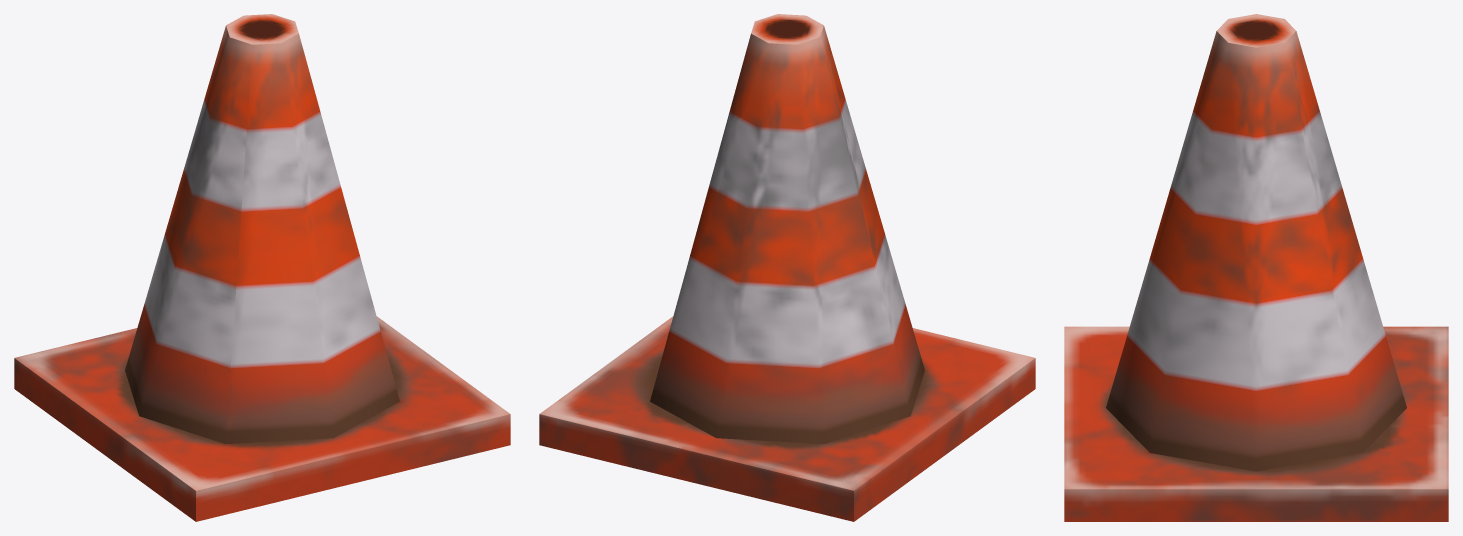
File: trafficCone01.fbx
The picture shows the model from 3 angles, left to right: view 1: azimuth 30°, elevation 25°; view 2: azimuth 150°, elevation 25°; view 3: azimuth 270°, elevation 25°; orthographic projection. The views are drawn at different scales.
Visible parts, largest first — view 1: trafficCone01; view 2: trafficCone01; view 3: trafficCone01.
Boxes of the visible parts, x1,y1,x2,y2 form: trafficCone01: (14, 14, 510, 521); trafficCone01: (539, 14, 1035, 521); trafficCone01: (1064, 14, 1448, 521).
Bounding box in the file's own units: 42.48 × 50 × 42.48.
